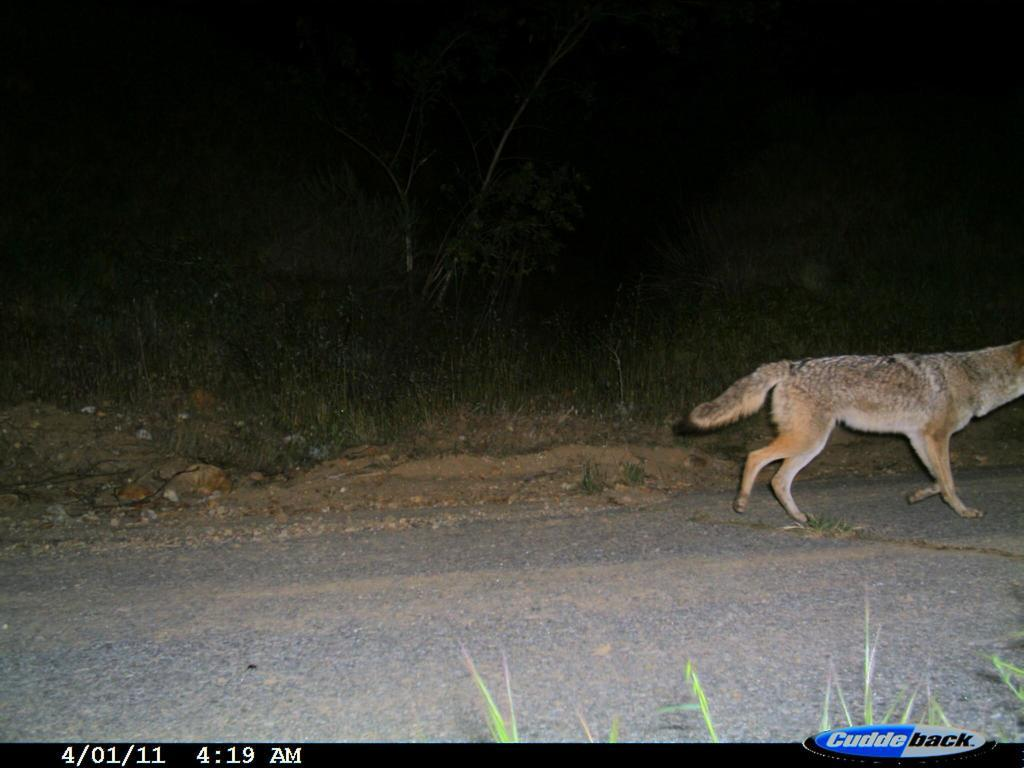coyote: (667, 323, 1023, 529)
